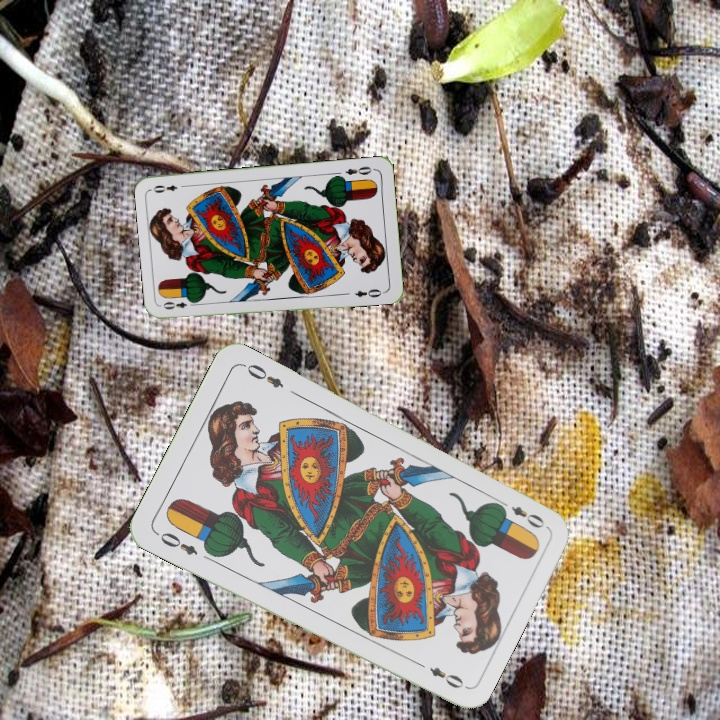EO: (493, 497, 547, 531), (156, 528, 201, 558), (159, 296, 199, 312), (341, 162, 374, 178)
